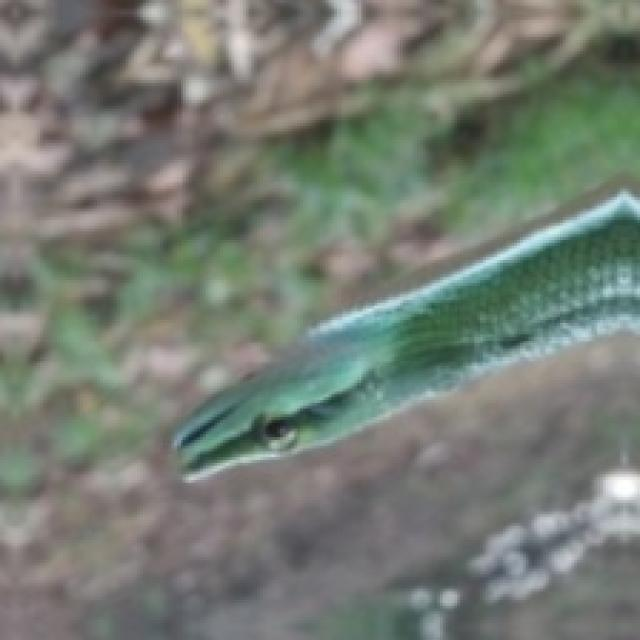red-tailed green ratsnake: (174, 191, 637, 474)
